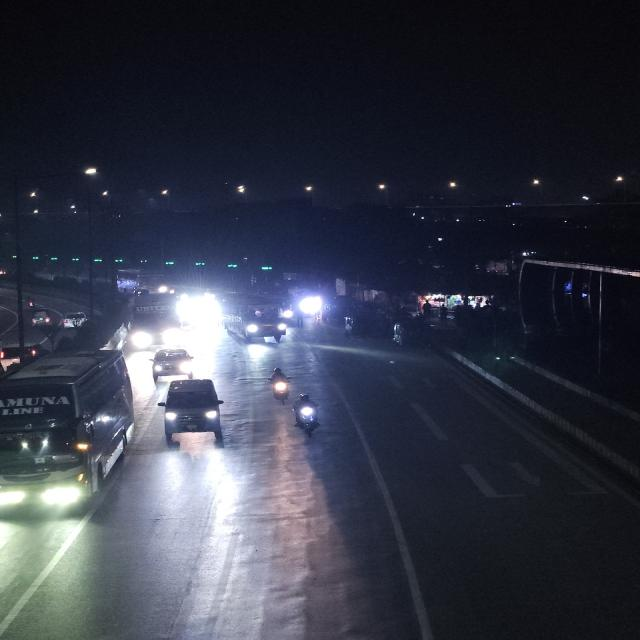bus: (1, 346, 133, 521), (218, 296, 292, 344), (127, 292, 188, 348)
car: (157, 376, 230, 446), (148, 345, 197, 379), (59, 309, 90, 331)
cng: (28, 305, 53, 329)
motorcycle: (288, 391, 328, 441), (265, 366, 295, 406)
pedestrian: (295, 309, 305, 330)
